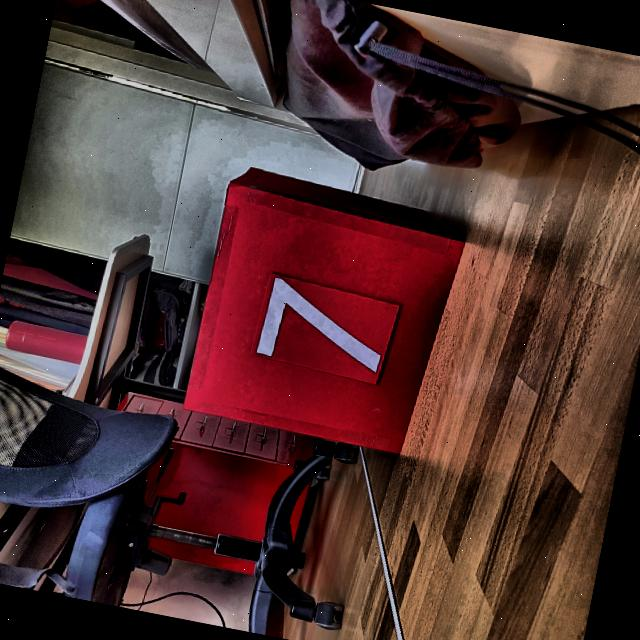red box: (182, 161, 474, 463)
seven: (254, 272, 396, 382)
